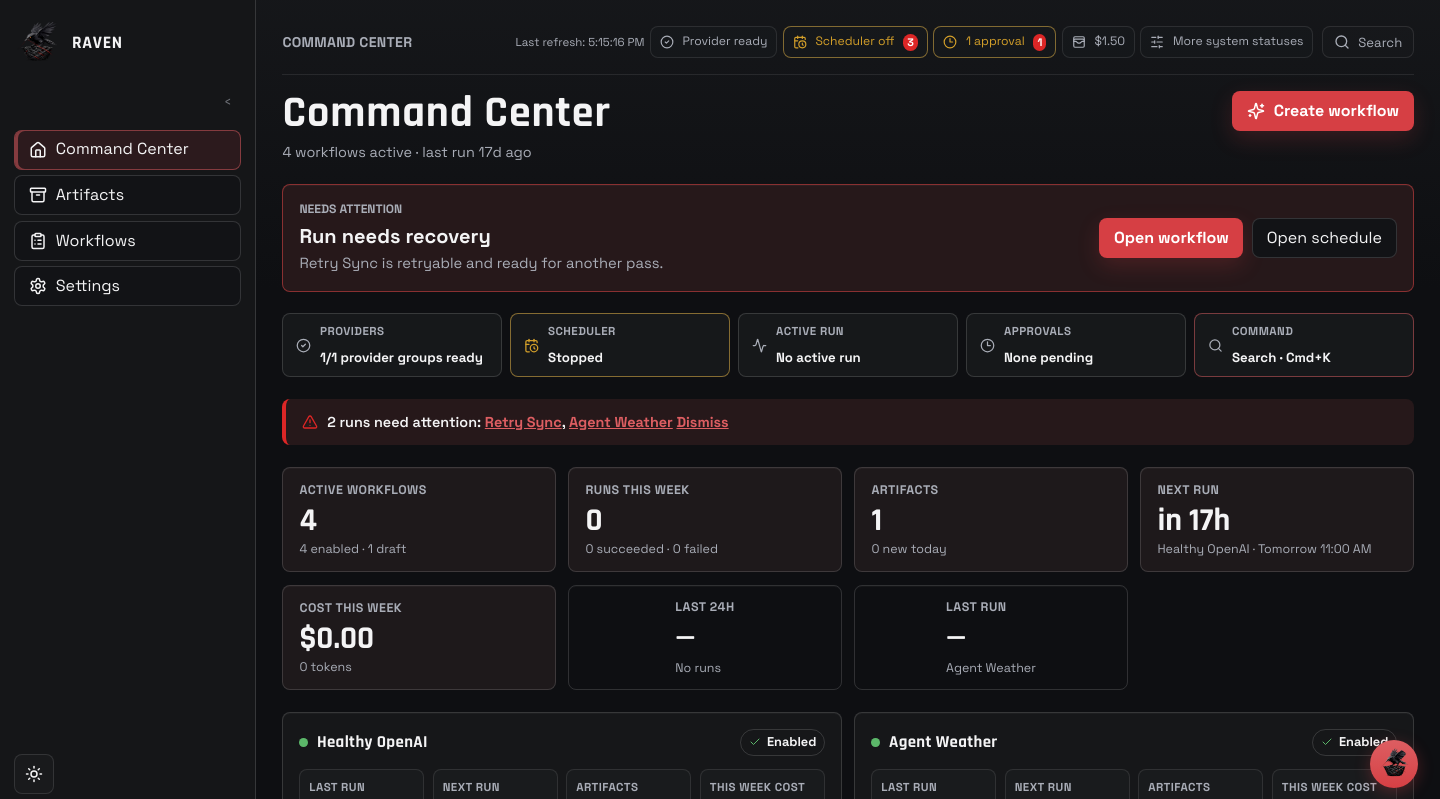
Raven app shell › does not restore top status focus over a focused search control
Step 1. Click the button with aria-label "provider status" → [714, 42], box top-left (650, 26), bottom-right (777, 58)
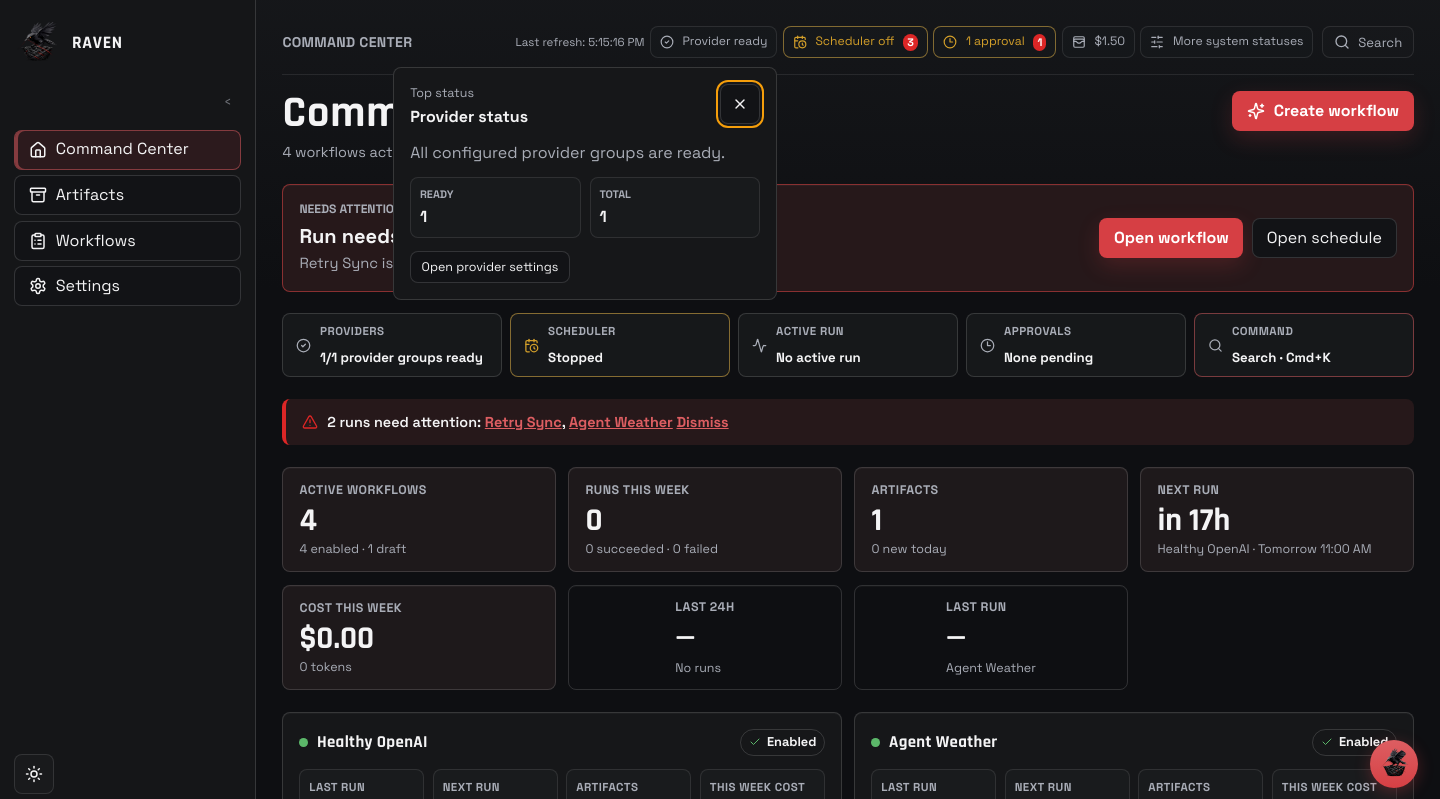
Now the dialog named "Provider status details" is shown, box top-left (393, 67), bottom-right (777, 300)
Step 2. Click the button with aria-label "Search (Cmd+K)" → [1368, 42], box top-left (1322, 26), bottom-right (1414, 58)
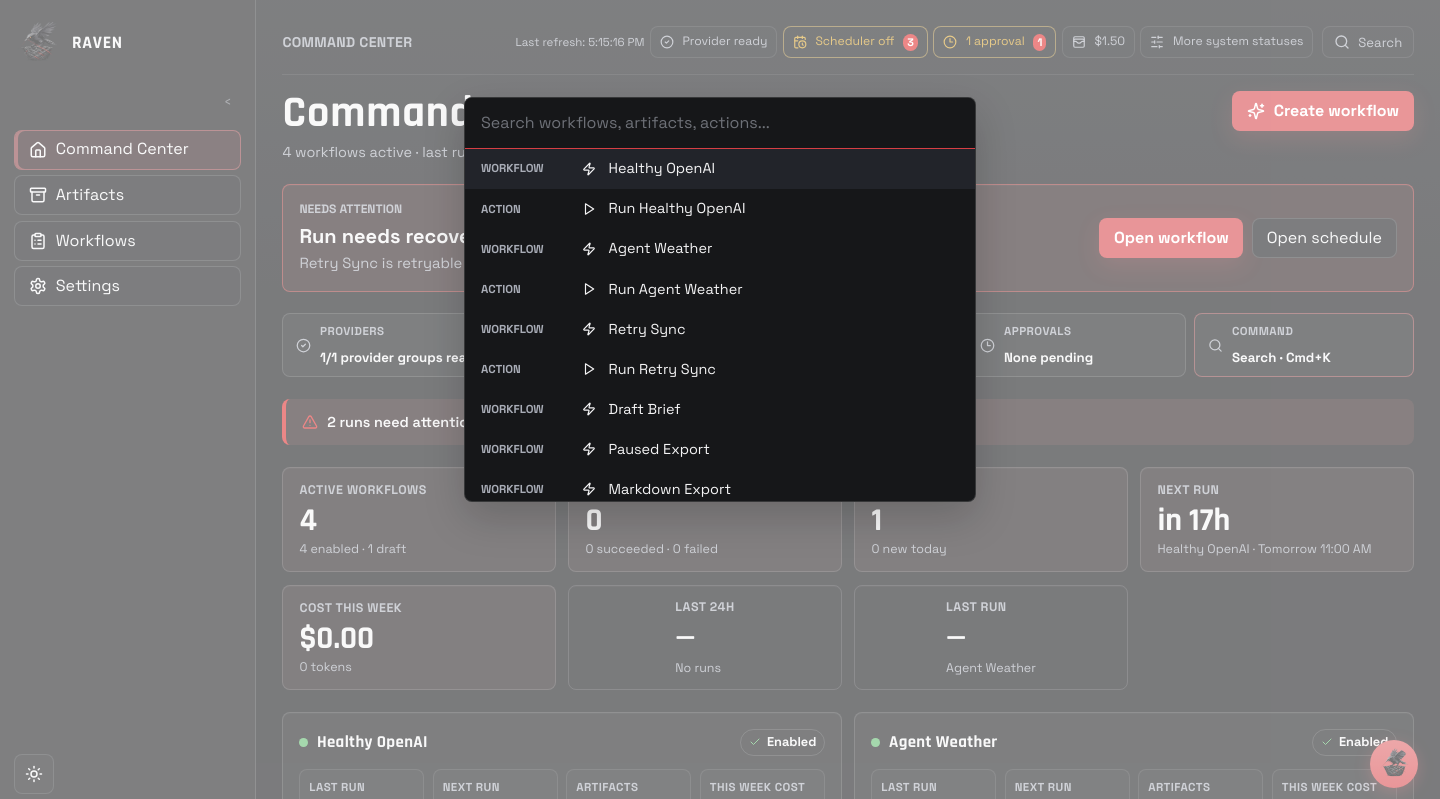
Now the dialog named "Command palette" is shown, box top-left (464, 97), bottom-right (976, 502)
